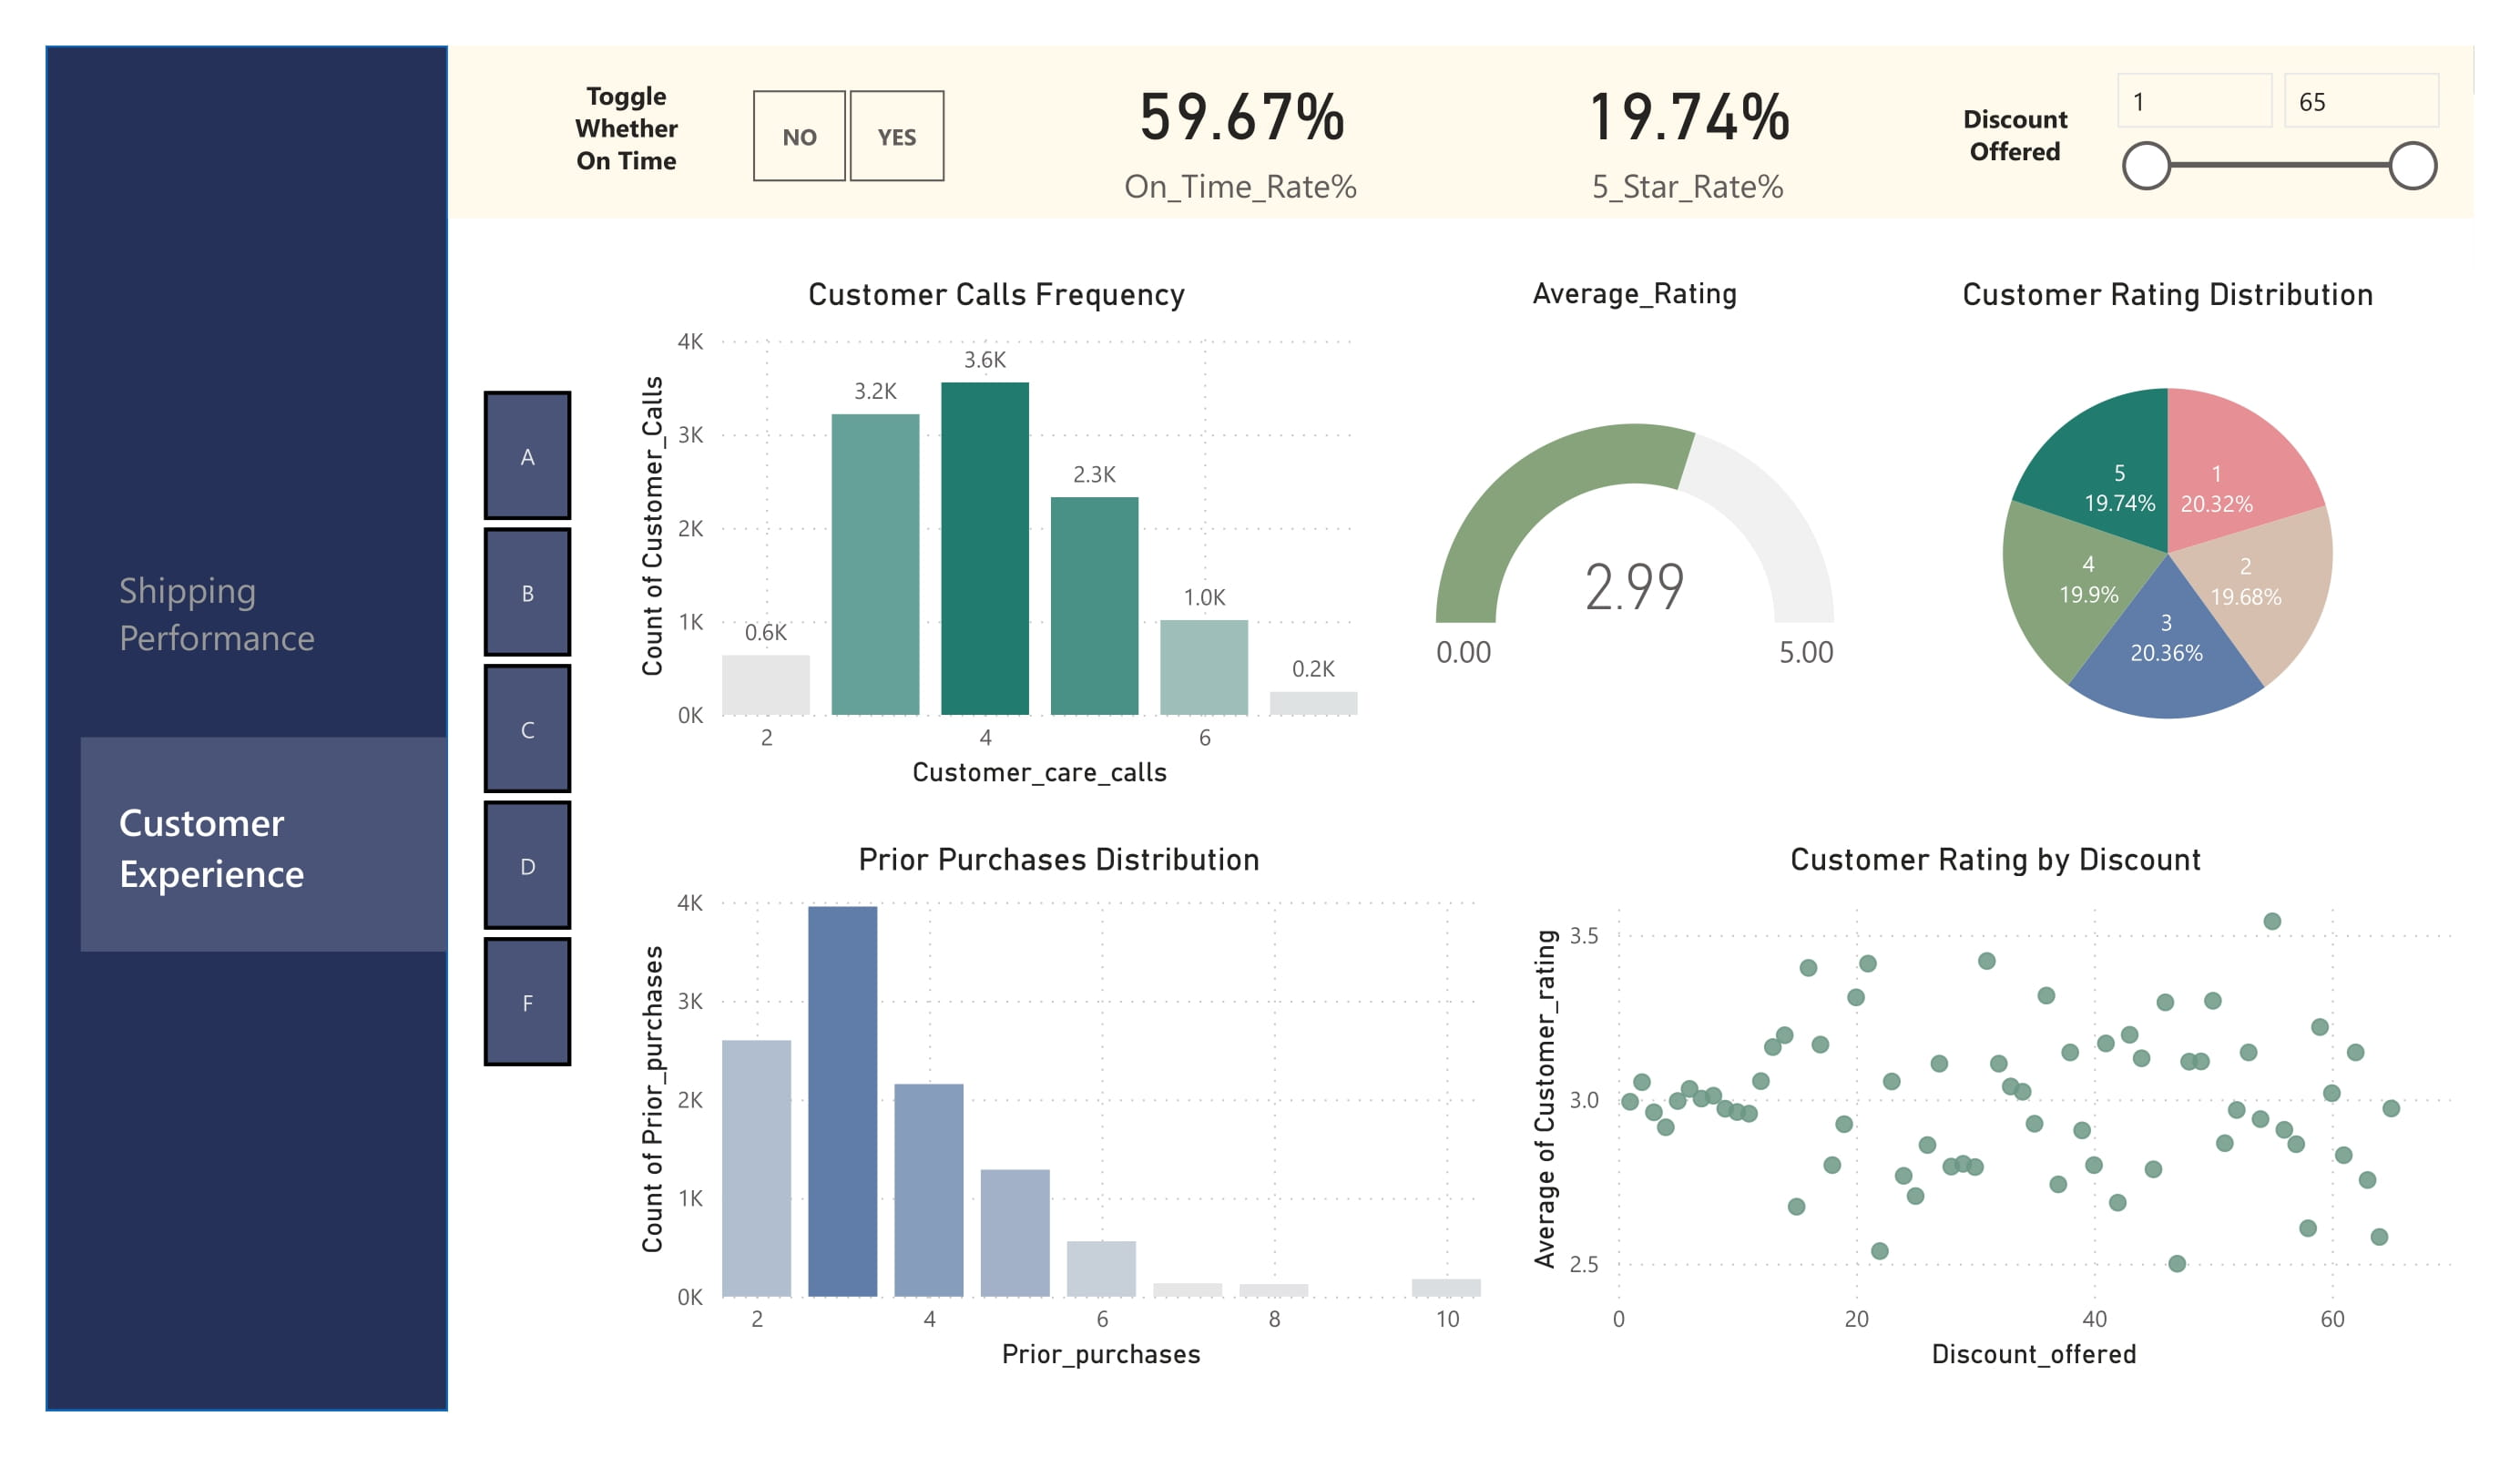

Layout of this report page (visuals, bound fields, positions):
{"tool":"powerbi","page":{"name":"Customer Experience","canvas":[1280,720],"ordinal":1},"visuals":[{"type":"slicer","fields":{"Values":["e_commerce_shipping.Warehouse_block"]},"box":[205,175.2,96.4,369.6],"z":0},{"type":"shape","box":[0,0,212,720],"z":1000},{"type":"clusteredColumnChart","title":"Customer Calls Frequency","fields":{"Category":["e_commerce_shipping.Customer_care_calls"],"Y":["e_commerce_shipping.Count of Customer_Calls"]},"box":[306.6,120.9,389.8,275],"z":2000},{"type":"pieChart","title":"Customer Rating Distribution","fields":{"Category":["e_commerce_shipping.Customer_rating"],"Y":["e_commerce_shipping.Count of Customer_Rating"]},"box":[958.2,120.9,321.5,275],"z":3000},{"type":"shape","box":[212,0,1067.7,91.1],"z":4000},{"type":"slicer","title":"Discount Offered","fields":{"Values":["e_commerce_shipping.Discount_offered"]},"box":[1079.1,4.4,190.1,86.7],"z":5000},{"type":"card","fields":{"Values":["e_commerce_shipping.5_Star_Rate%"]},"box":[733.1,0,264.5,91.1],"z":6000},{"type":"card","fields":{"Values":["e_commerce_shipping.On_Time_Rate%"]},"box":[497.5,0,264.5,91.1],"z":7000},{"type":"gauge","fields":{"Y":["e_commerce_shipping.Average_Rating"]},"box":[727.9,120.9,219.9,275],"z":8000},{"type":"columnChart","title":"Prior Purchases Distribution","fields":{"Category":["e_commerce_shipping.Prior_purchases"],"Y":["CountNonNull(e_commerce_shipping.Prior_purchases)"]},"box":[306.6,418.7,455.5,283.8],"z":9000},{"type":"scatterChart","title":"Customer Rating by Discount","fields":{"Y":["Avg(e_commerce_shipping.Customer_rating)"],"X":["e_commerce_shipping.Discount_offered"]},"box":[776.9,418.7,502.8,283.8],"z":10000},{"type":"pageNavigator","box":[18.4,241.8,193.6,236.5],"z":11000},{"type":"textbox","box":[997.7,24.5,81.5,46.4],"z":12000},{"type":"slicer","fields":{"Values":["e_commerce_shipping.Whether on Time"]},"box":[346.9,16.6,150.7,62.2],"z":13000},{"type":"textbox","box":[265.4,12.3,81.5,66.6],"z":14000}]}

Visuals, with their boxes on the page's 1280x720 design canvas (x1, y1, x2, y2). These are canvas units, not pixel positions in the 2520x1457 screenshot, which may show the page scaled, cropped or inside an application window:
slicer - e_commerce_shipping.Warehouse_block: 205,175,301,545
shape: 0,0,212,720
"Customer Calls Frequency" clusteredColumnChart: 307,121,696,396
"Customer Rating Distribution" pieChart: 958,121,1280,396
shape: 212,0,1280,91
"Discount Offered" slicer: 1079,4,1269,91
card - e_commerce_shipping.5_Star_Rate%: 733,0,998,91
card - e_commerce_shipping.On_Time_Rate%: 498,0,762,91
gauge - e_commerce_shipping.Average_Rating: 728,121,948,396
"Prior Purchases Distribution" columnChart: 307,419,762,702
"Customer Rating by Discount" scatterChart: 777,419,1280,702
pageNavigator: 18,242,212,478
textbox: 998,24,1079,71
slicer - e_commerce_shipping.Whether on Time: 347,17,498,79
textbox: 265,12,347,79
